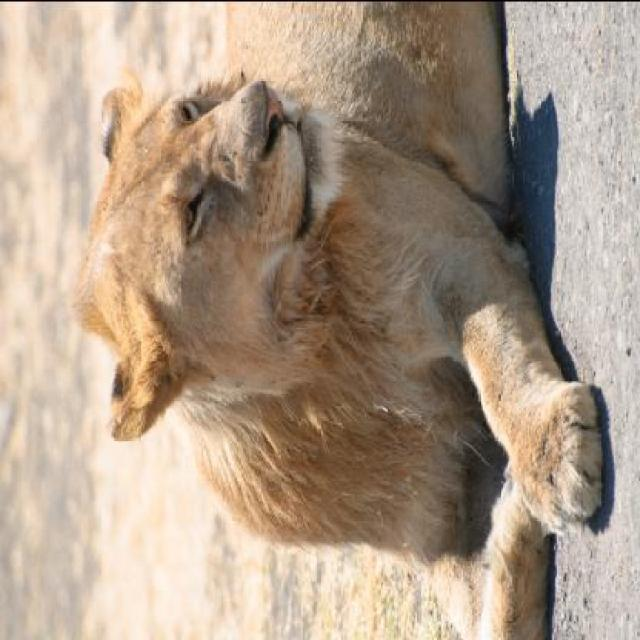Lion: (61, 12, 638, 638)
